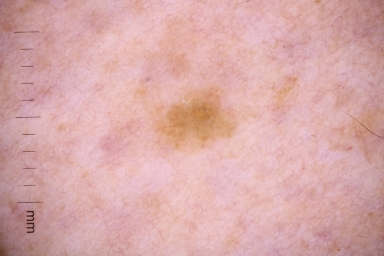melanoma: (153, 90, 242, 154)
